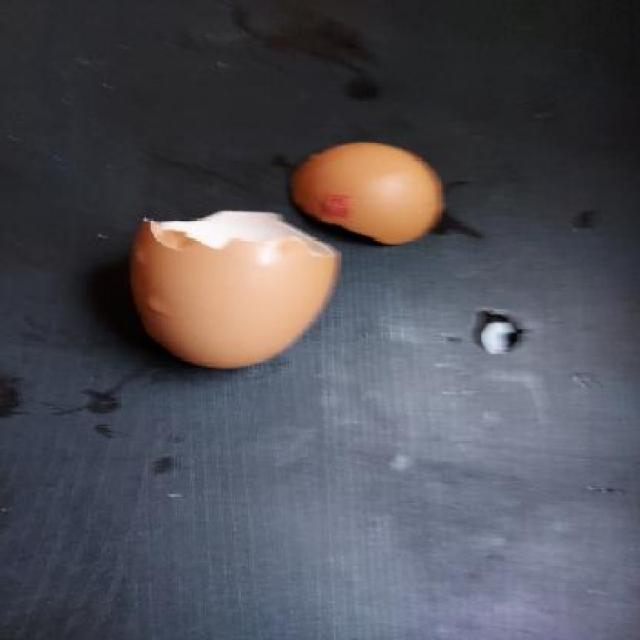biodegradable: (126, 210, 334, 368), (294, 128, 450, 254)
